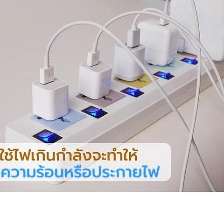three_eye_plug: (2, 24, 223, 187)
